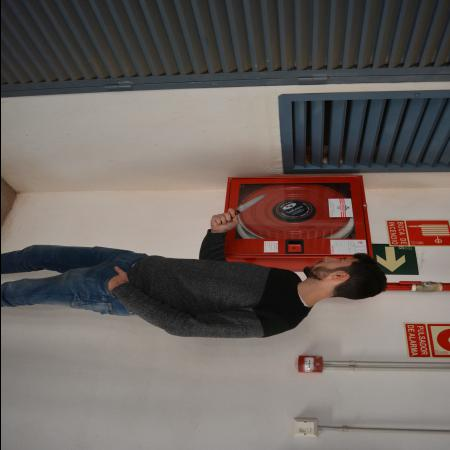long weapon: (226, 192, 270, 218)
